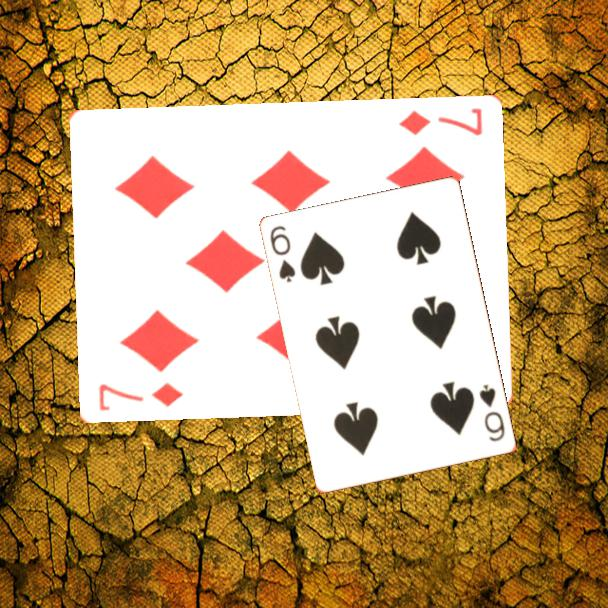d07: (94, 379, 185, 414), (395, 105, 485, 139)
s06: (476, 381, 508, 445), (267, 222, 299, 286)
